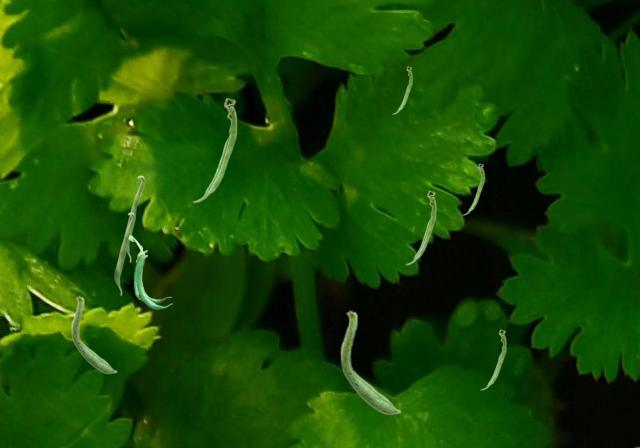french_bean: (340, 309, 400, 414), (192, 97, 236, 202), (71, 295, 116, 373), (129, 235, 171, 308), (405, 190, 435, 264), (123, 175, 144, 262), (114, 212, 134, 295), (480, 329, 505, 389), (462, 163, 483, 214), (392, 66, 411, 113)
